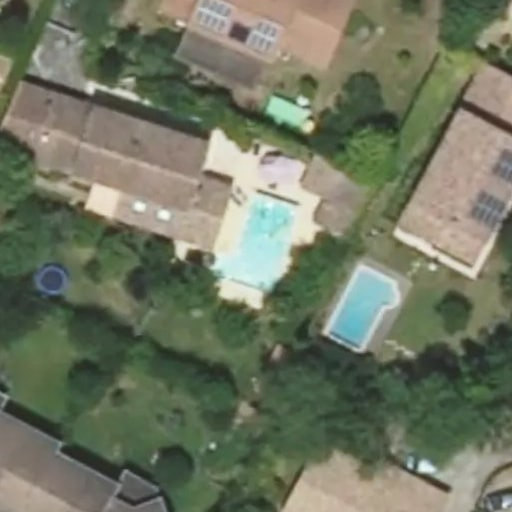pool: (226, 189, 302, 297), (325, 261, 399, 353)
